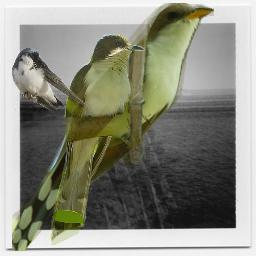Cuckoo: (12, 3, 214, 251), (50, 34, 145, 245)
Swallow: (10, 47, 89, 113)
